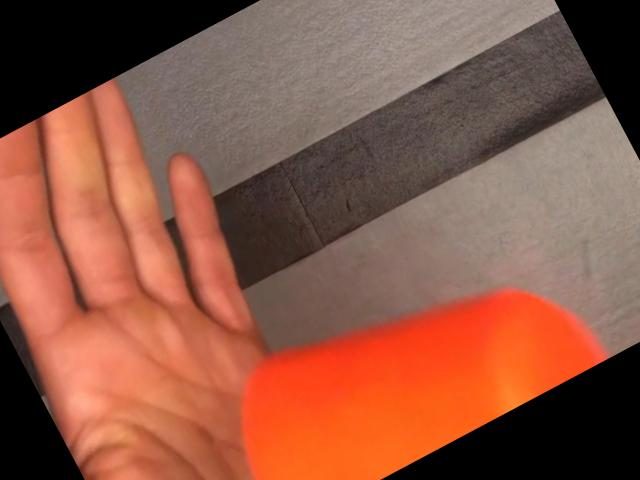hammer: (204, 216, 608, 480)
